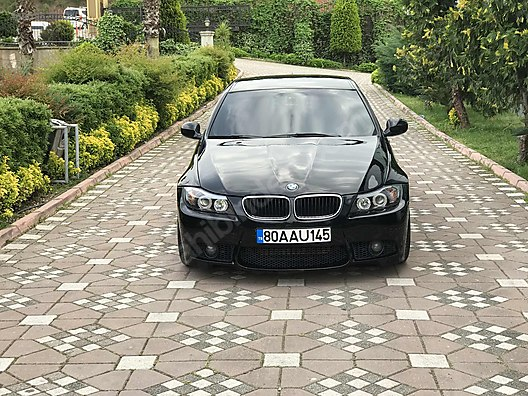bmw: (171, 73, 413, 276)
